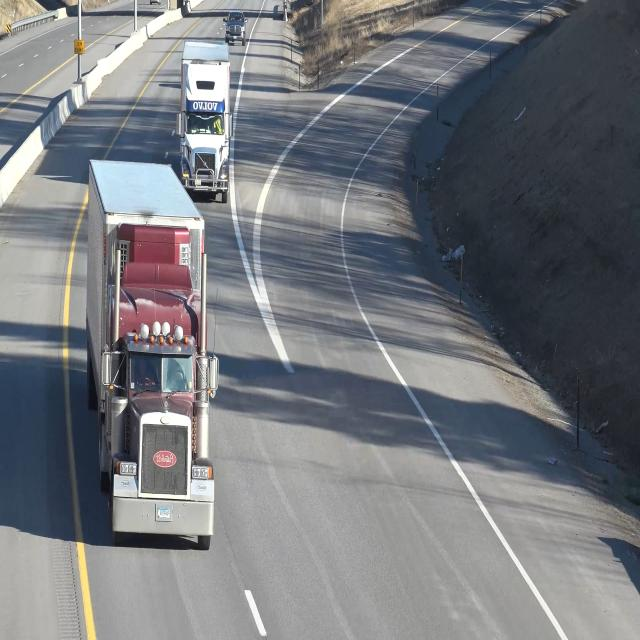Car: (82, 157, 214, 548), (178, 32, 232, 208), (223, 8, 246, 49)
